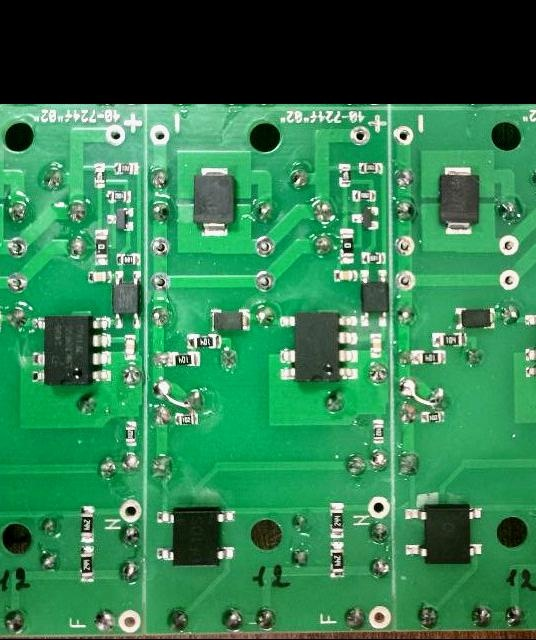chip-capacitor: (369, 331, 384, 358), (333, 268, 359, 282), (87, 269, 113, 283), (124, 332, 137, 360)
chip-resistor: (79, 504, 96, 543), (328, 541, 345, 579), (79, 544, 95, 584), (167, 349, 202, 367), (330, 499, 346, 538), (94, 227, 110, 266), (430, 331, 468, 347), (339, 227, 355, 265), (410, 348, 447, 364), (187, 332, 223, 348), (360, 249, 387, 264), (124, 418, 138, 446), (351, 188, 378, 202), (113, 161, 140, 175), (106, 189, 133, 203), (116, 251, 141, 266), (338, 161, 352, 187), (357, 160, 384, 173), (372, 417, 385, 444), (93, 161, 106, 188), (420, 409, 445, 423), (174, 411, 199, 425)
diode: (437, 164, 482, 236), (192, 165, 237, 237), (209, 307, 252, 332), (453, 306, 497, 330)
ic: (277, 310, 360, 386), (31, 314, 113, 386), (404, 502, 485, 566), (155, 505, 238, 567), (358, 268, 389, 328), (114, 269, 142, 329)
transistor: (350, 205, 381, 230), (106, 205, 135, 231)
